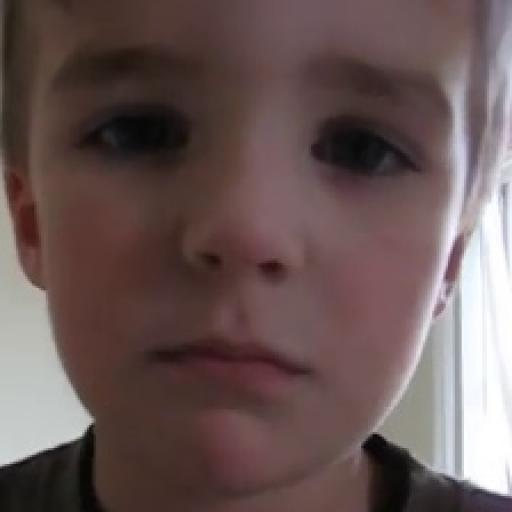Autism: (15, 10, 439, 448)
